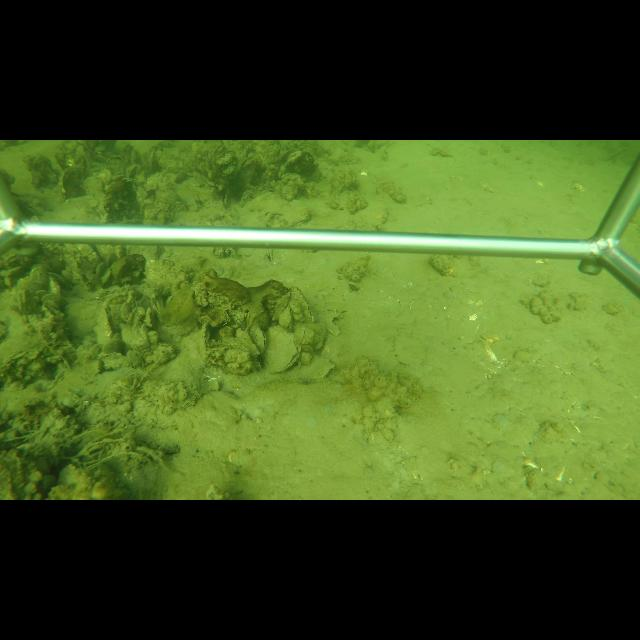Oyster-Closed: (262, 324, 304, 375), (191, 322, 215, 369), (289, 284, 317, 323), (94, 302, 118, 347)
